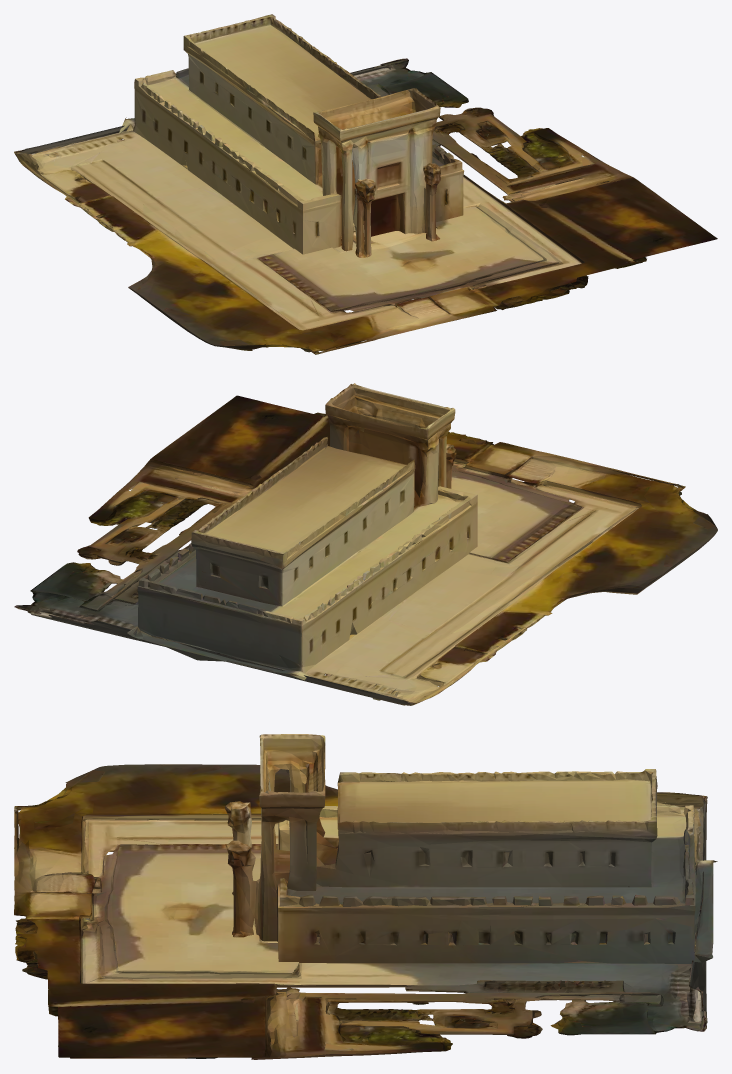
File: TEMPLO ELOHIM AML333.glb
The picture shows the model from 3 angles, top to bottom: view 1: azimuth 30°, elevation 25°; view 2: azimuth 150°, elevation 25°; view 3: azimuth 270°, elevation 25°; orthographic projection. The views are drawn at different scales.
Parts seen in each view (by area): view 1: world.022, world.021; view 2: world.022, world.021; view 3: world.022, world.021.
Boxes of the visible parts, bbox=[...] form: world.022: bbox=[14, 58, 717, 354]; world.021: bbox=[119, 14, 464, 257]; world.022: bbox=[14, 395, 717, 705]; world.021: bbox=[127, 383, 477, 680]; world.022: bbox=[14, 764, 707, 1059]; world.021: bbox=[225, 734, 717, 963].
Size of the model in its own units: 1 by 0.2854 by 1.02.
Materials: 6 (6 with a texture image).
